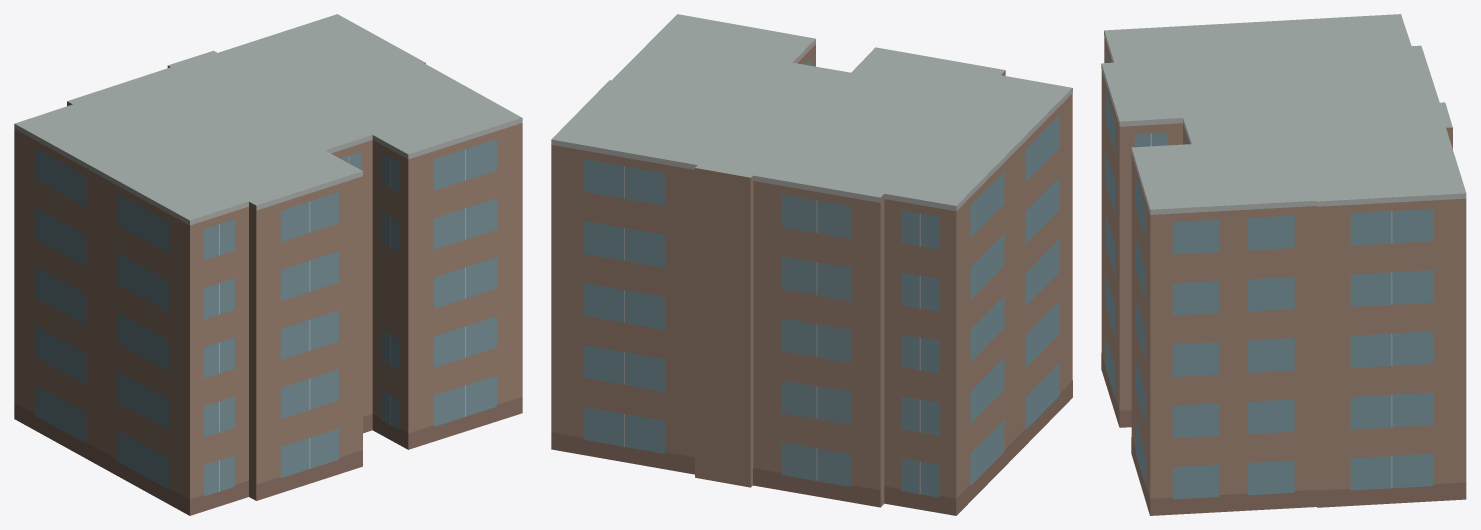
Rendered from survey-upis-33017698.glb.
3 views of the same model, side by side, from view 1: azimuth 30°, elevation 25°; view 2: azimuth 150°, elevation 25°; view 3: azimuth 270°, elevation 25° (orthographic). The views are drawn at different scales.
Parts seen in each view (by area): view 1: survey-upis-33017698.tmp; view 2: survey-upis-33017698.tmp; view 3: survey-upis-33017698.tmp.
Boxes of the visible parts, x1=… form: survey-upis-33017698.tmp: x1=14, y1=14, x2=522, y2=515; survey-upis-33017698.tmp: x1=551, y1=14, x2=1072, y2=515; survey-upis-33017698.tmp: x1=1101, y1=14, x2=1466, y2=515.
Size of the model in its own units: 19.76 by 14.4 by 15.57.
